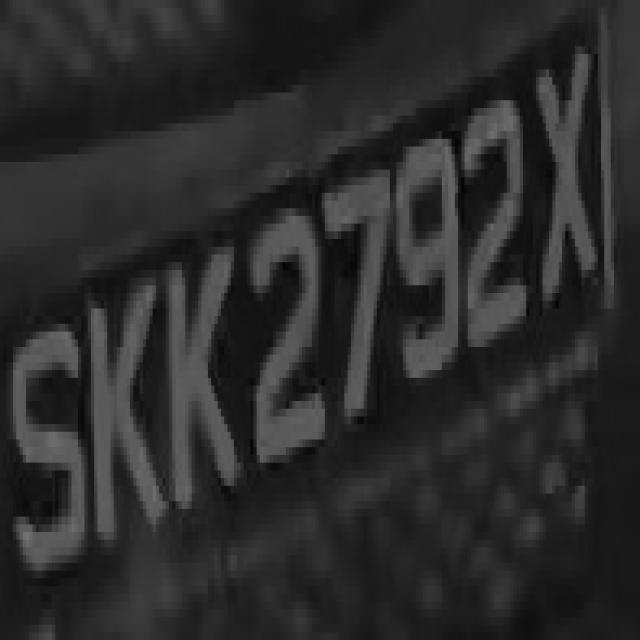2: (240, 185, 322, 478), (458, 100, 539, 362)
7: (312, 131, 380, 447)
9: (383, 108, 445, 401)
K: (75, 270, 156, 594), (160, 224, 240, 532)
S: (7, 324, 81, 594)
X: (536, 46, 595, 324)
